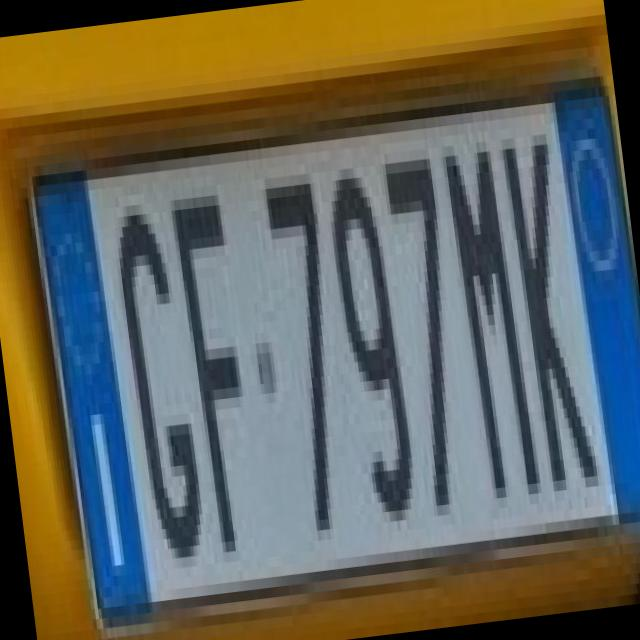7: (367, 117, 481, 508), (246, 152, 356, 523)
9: (309, 144, 420, 515)
C: (94, 181, 205, 572)
F: (153, 164, 264, 555)
K: (488, 102, 596, 494)
M: (428, 110, 542, 500)
